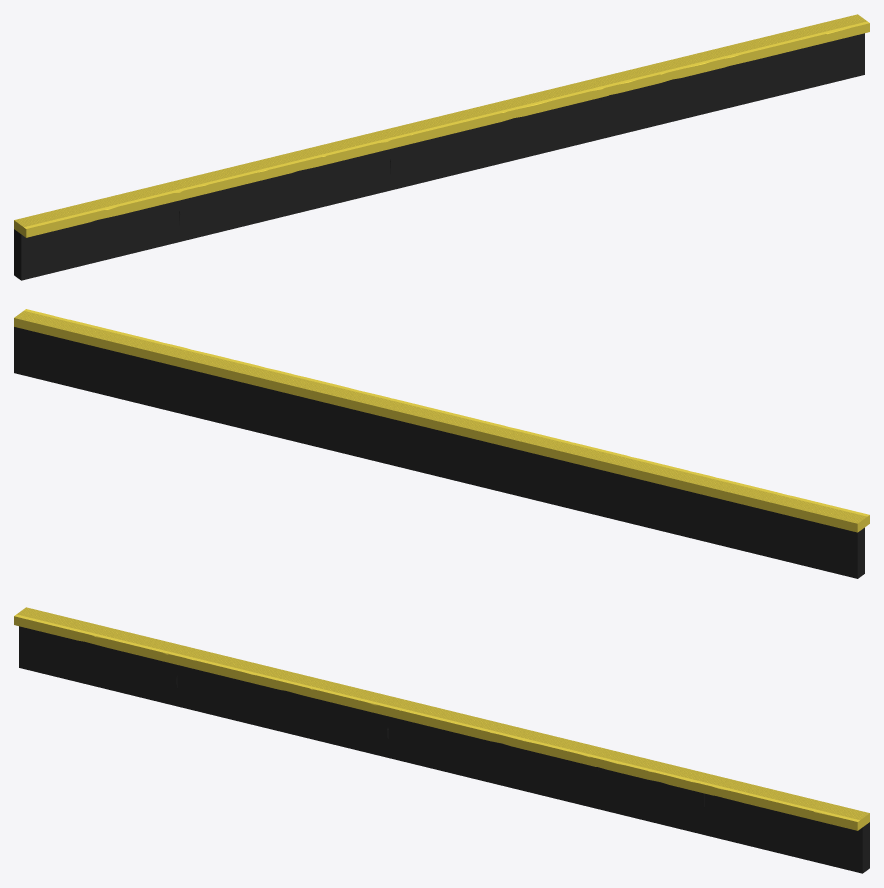
File: SW_ENV_PlatformEdge_A_20m.fbx
3 renders of one model, top to bottom at view 1: azimuth 30°, elevation 25°; view 2: azimuth 150°, elevation 25°; view 3: azimuth 330°, elevation 25°, orthographic.
Parts seen in each view (by area): view 1: SW_ENV_PlatformEdge_A_20m; view 2: SW_ENV_PlatformEdge_A_20m; view 3: SW_ENV_PlatformEdge_A_20m.
Boxes of the visible parts, x1,y1,x2,y2 form: SW_ENV_PlatformEdge_A_20m: (14, 14, 869, 280); SW_ENV_PlatformEdge_A_20m: (14, 309, 869, 578); SW_ENV_PlatformEdge_A_20m: (14, 607, 869, 873).
Size of the model in its own units: 2000 by 125 by 50.
